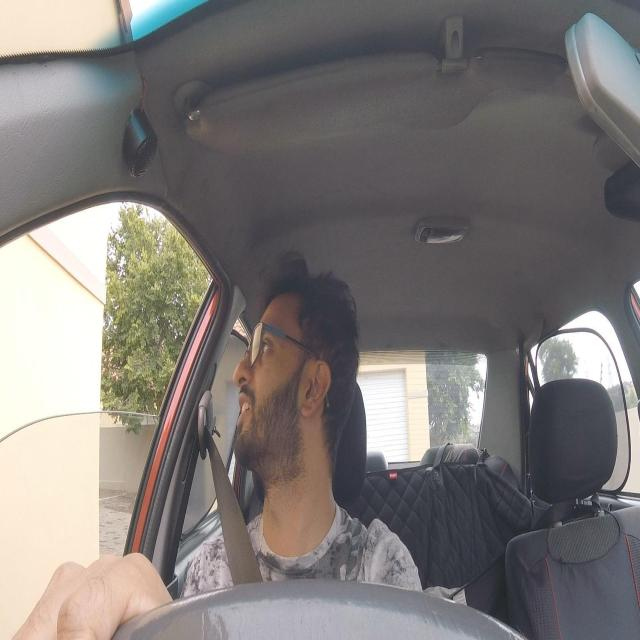open: (251, 315, 284, 374)
